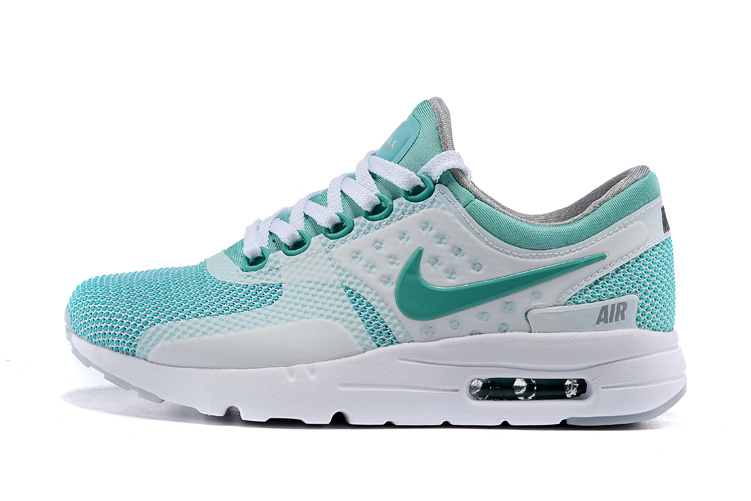nike: (391, 247, 611, 322)
